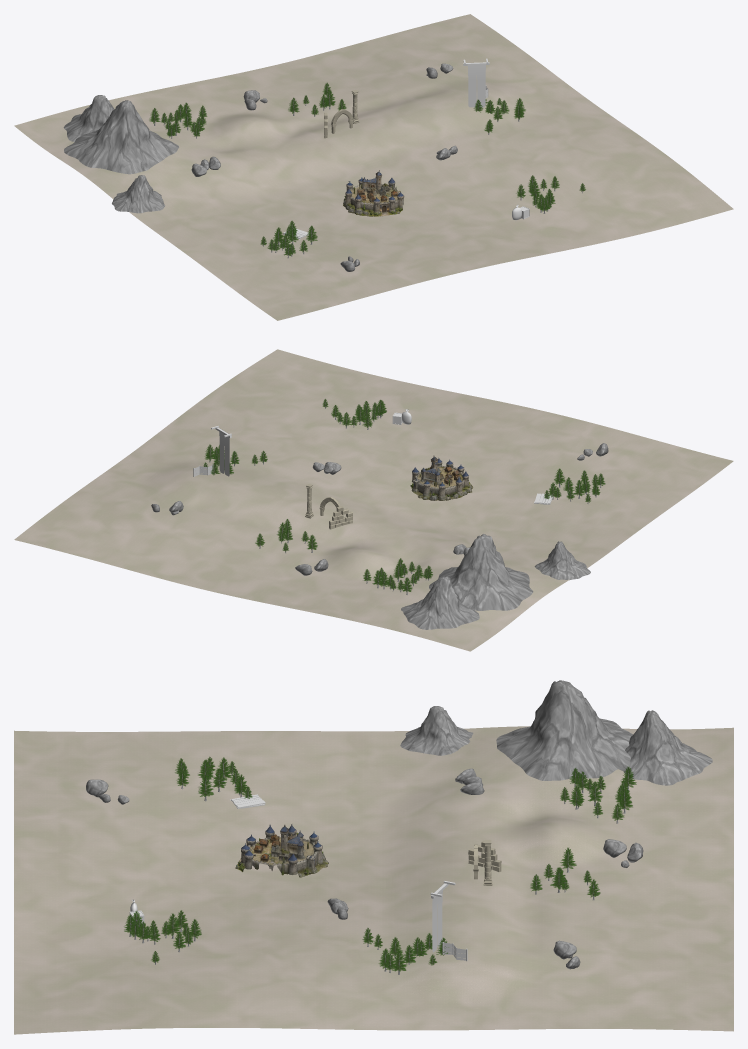
File: ground-surface.glb
3 renders of one model, top to bottom at view 1: azimuth 30°, elevation 25°; view 2: azimuth 150°, elevation 25°; view 3: azimuth 270°, elevation 25°, orthographic. The views are drawn at different scales.
Parts seen in each view (by area): view 1: ZoneOne continuous prairie source, Mountain01_LOD0.001, Eldoria_MultiPiece_Group_05, Mountain01_LOD0.003, Mountain01_LOD0.002, canvas_on_wall; view 2: ZoneOne continuous prairie source, Mountain01_LOD0.001, Mountain01_LOD0.002, Eldoria_MultiPiece_Group_05, Mountain01_LOD0.003, canvas_on_wall; view 3: ZoneOne continuous prairie source, Mountain01_LOD0.001, Mountain01_LOD0.002, Eldoria_MultiPiece_Group_05, Mountain01_LOD0.003, canvas_on_wall.
Boxes of the visible parts, x1,y1,x2,y2 form: ZoneOne continuous prairie source: (14, 14, 733, 320); Mountain01_LOD0.001: (64, 100, 178, 174); Eldoria_MultiPiece_Group_05: (343, 170, 404, 216); Mountain01_LOD0.003: (112, 175, 165, 213); Mountain01_LOD0.002: (63, 95, 114, 141); canvas_on_wall: (463, 58, 489, 107); ZoneOne continuous prairie source: (14, 349, 733, 651); Mountain01_LOD0.001: (429, 534, 533, 610); Mountain01_LOD0.002: (401, 576, 479, 629); Eldoria_MultiPiece_Group_05: (410, 455, 472, 500); Mountain01_LOD0.003: (534, 541, 590, 580); canvas_on_wall: (211, 426, 231, 476); ZoneOne continuous prairie source: (14, 726, 733, 1034); Mountain01_LOD0.001: (496, 680, 633, 780); Mountain01_LOD0.002: (619, 710, 712, 785); Eldoria_MultiPiece_Group_05: (235, 824, 328, 877); Mountain01_LOD0.003: (400, 706, 473, 755); canvas_on_wall: (430, 881, 455, 952).
Size of the model in its own units: 245 by 32.68 by 240.
17 materials, 6 textured.
